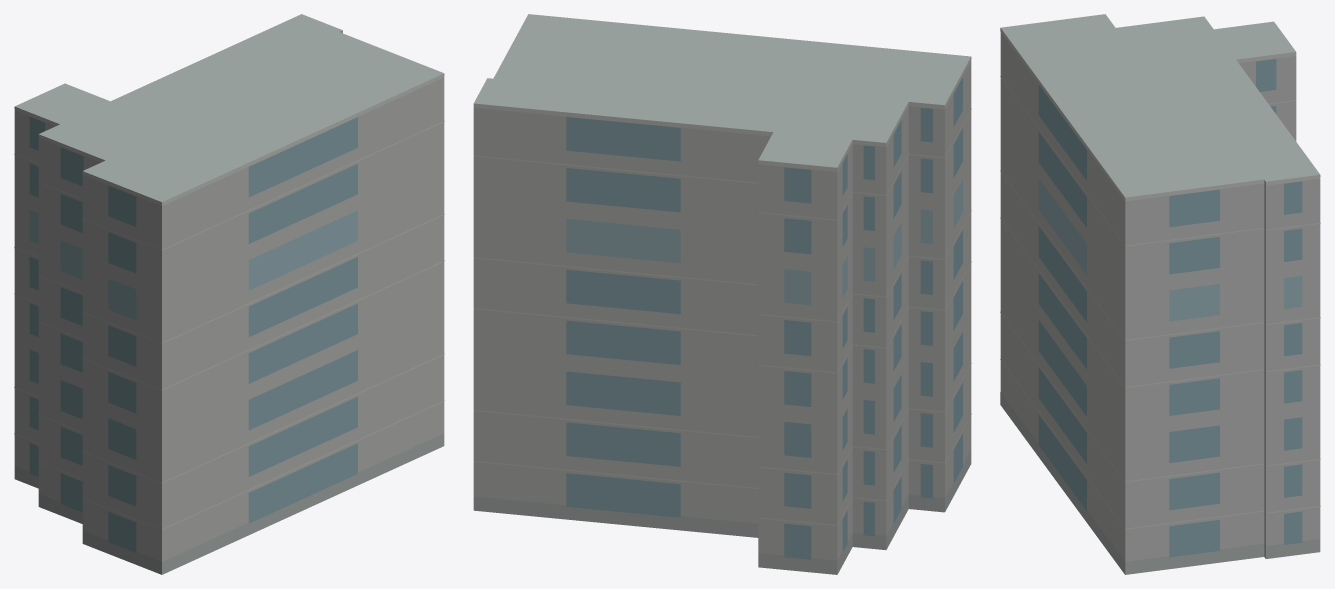
File: survey-upis-32770529.glb
3 views of the same model, side by side, from view 1: azimuth 30°, elevation 25°; view 2: azimuth 150°, elevation 25°; view 3: azimuth 270°, elevation 25° (orthographic). The views are drawn at different scales.
Visible parts, largest first — view 1: survey-upis-32770529.tmp; view 2: survey-upis-32770529.tmp; view 3: survey-upis-32770529.tmp.
Boxes of the visible parts, left/top/right/bottom form: survey-upis-32770529.tmp: left=14, top=14, right=444, bottom=574; survey-upis-32770529.tmp: left=473, top=14, right=971, bottom=574; survey-upis-32770529.tmp: left=1000, top=14, right=1320, bottom=574.
Bounding box in the file's own units: 23.81 × 22.8 × 17.54.
